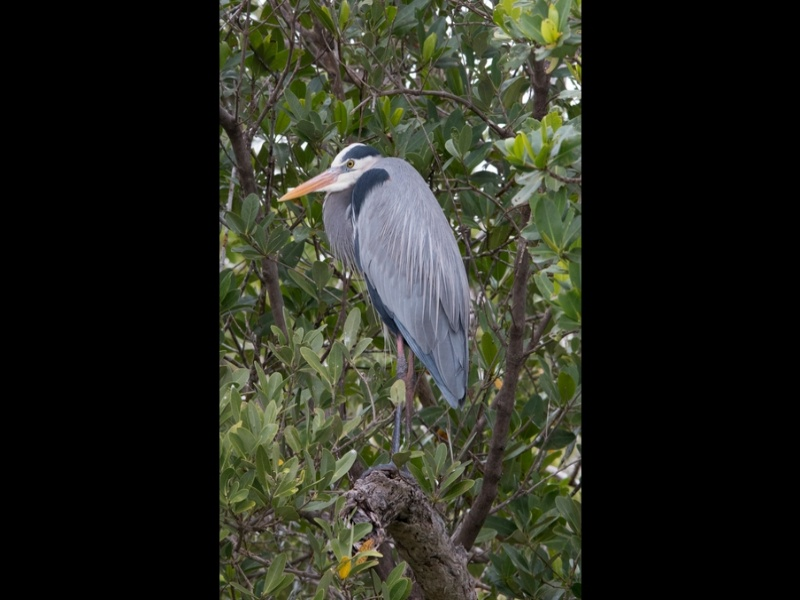heron: (274, 141, 473, 471)
